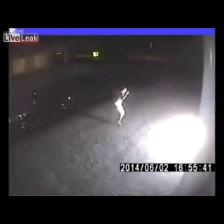person: (115, 88, 129, 125)
